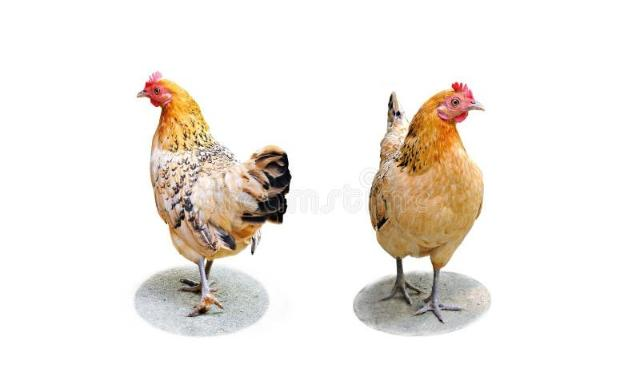Chicken: (137, 70, 292, 319), (368, 79, 484, 325)
